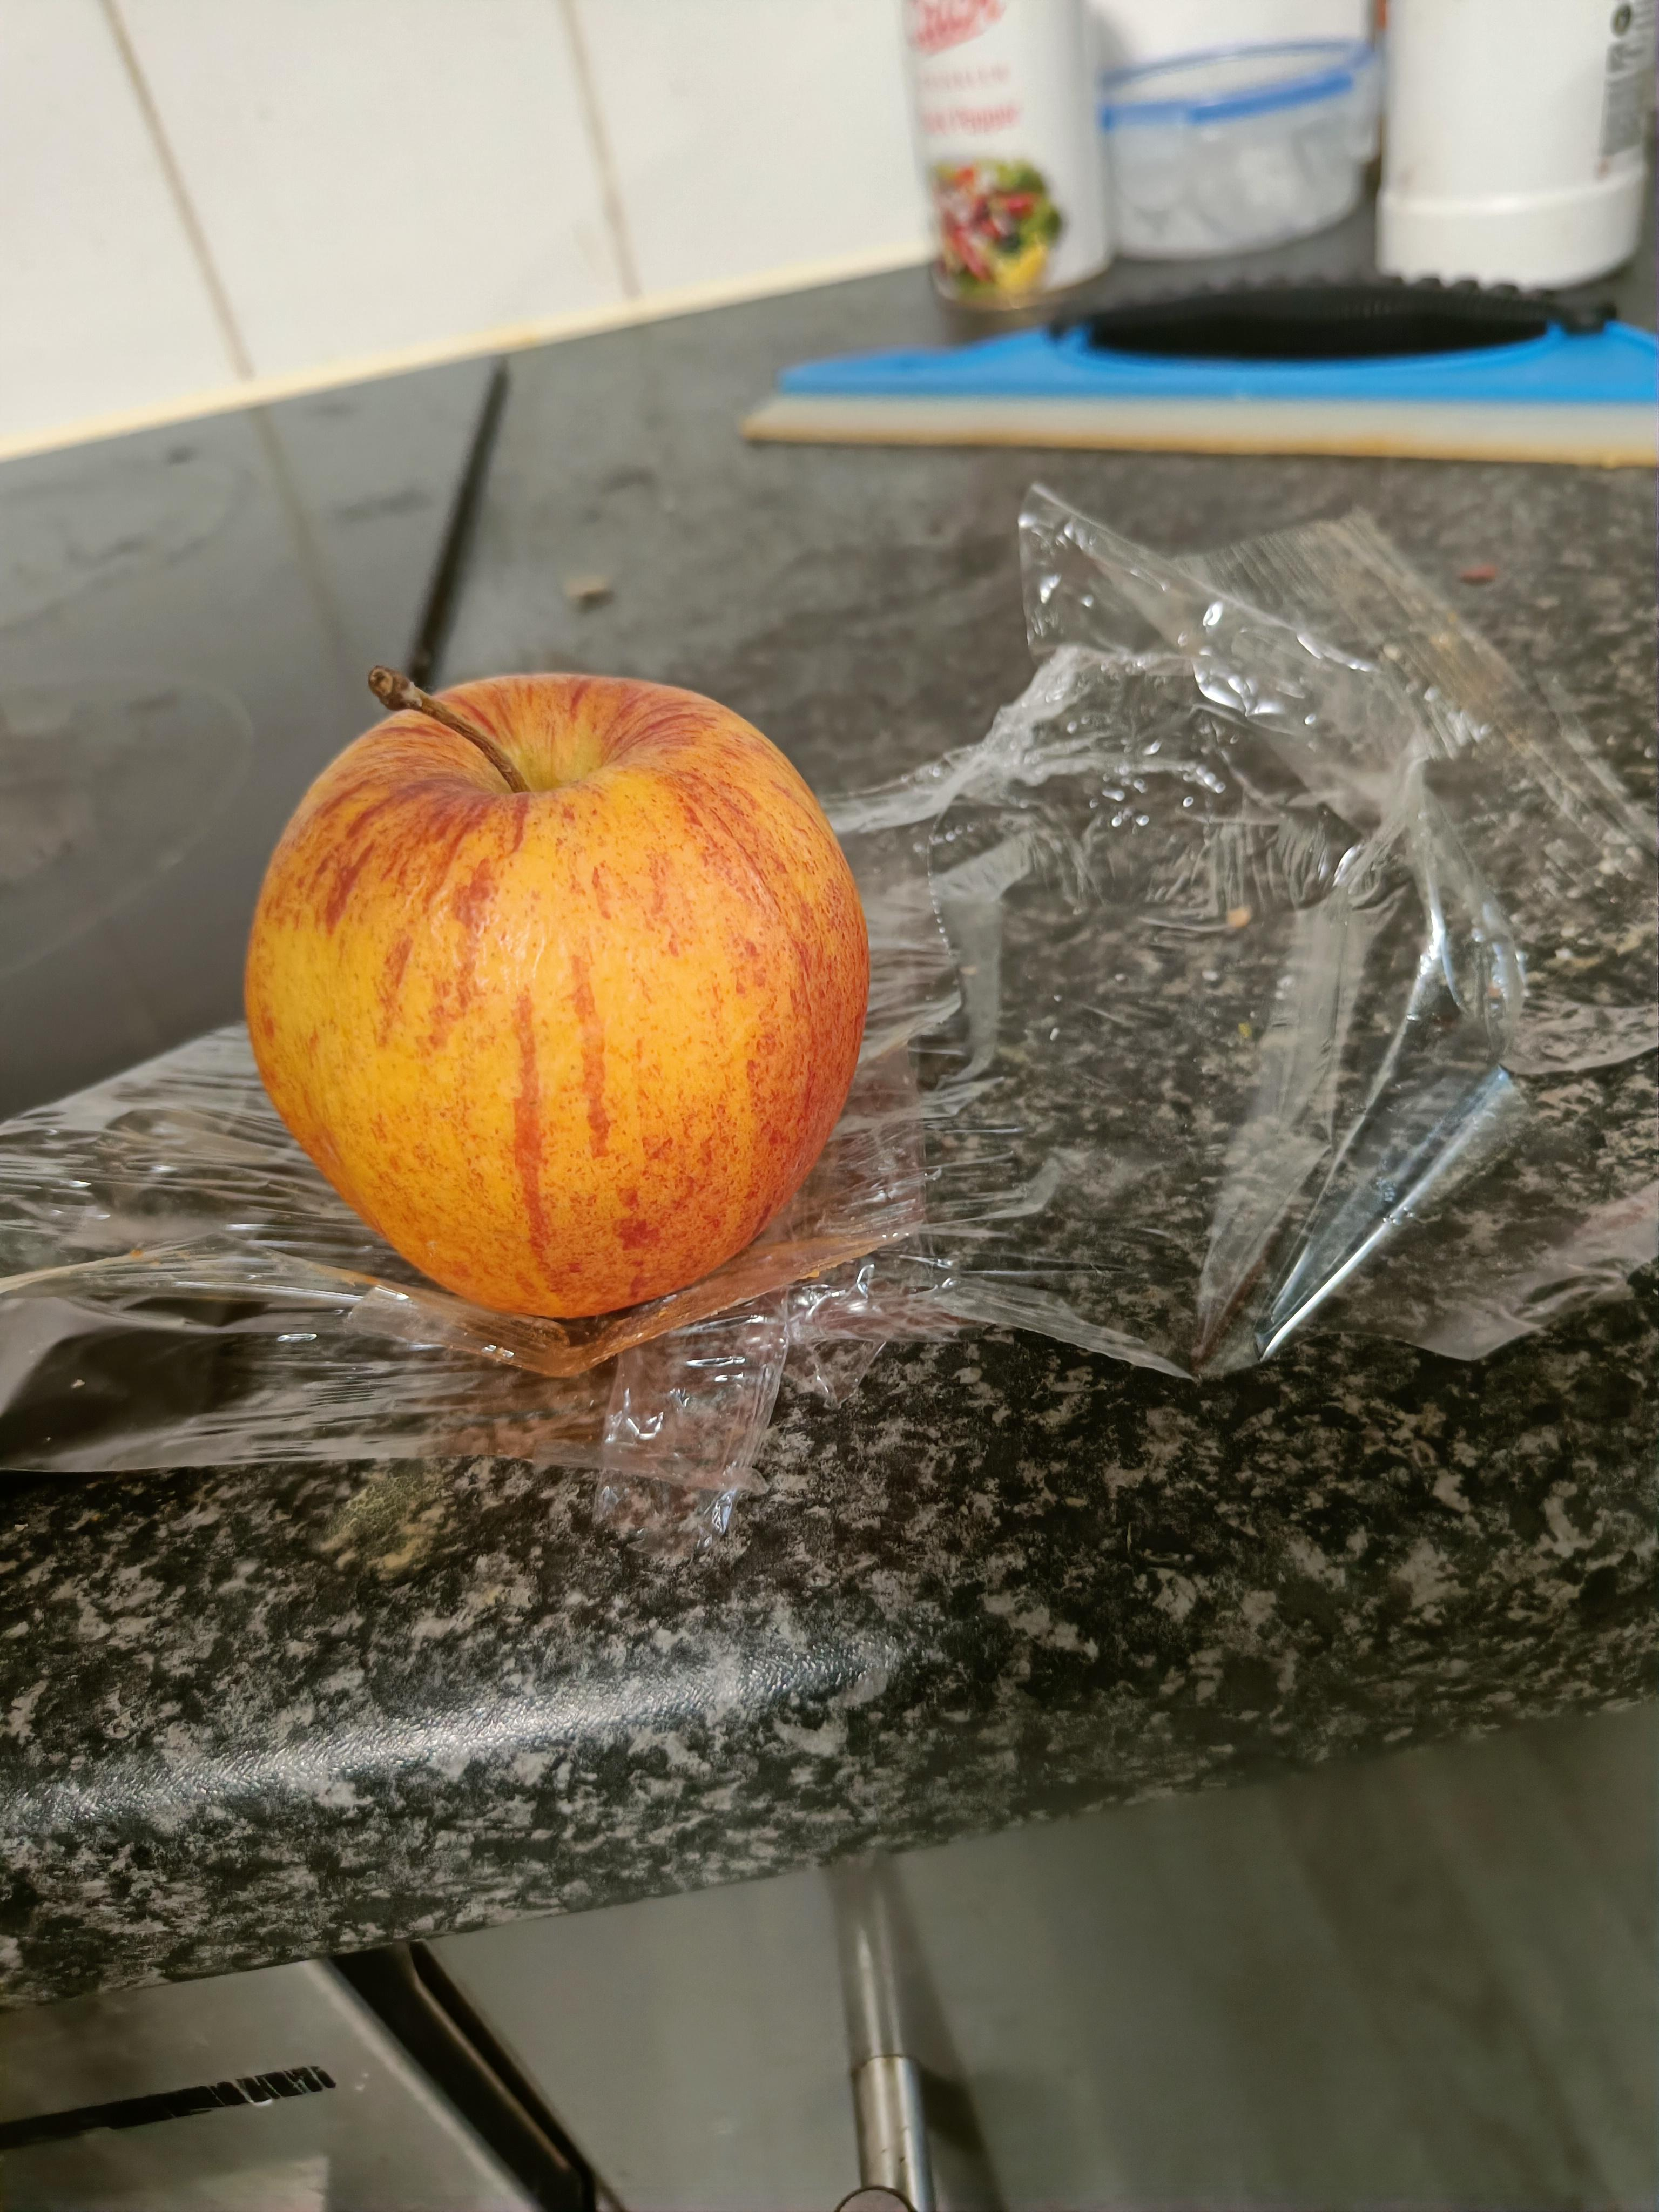Apple: (240, 637, 899, 1320)
